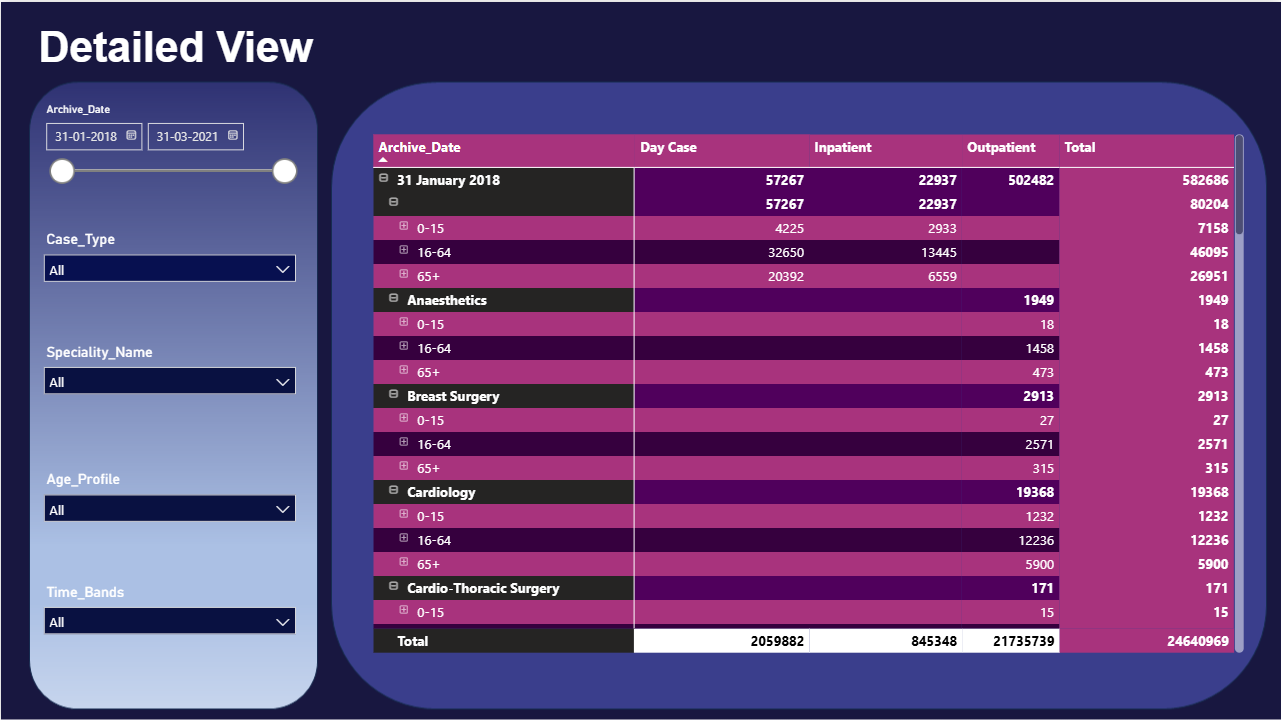

The page's visual inventory and layout, read from the dashboard file:
{"tool":"powerbi","page":{"name":"Detail","canvas":[1280,720],"ordinal":1},"visuals":[{"type":"slicer","fields":{"Values":["All_Data.Archive_Date"]},"box":[32,96,272,112],"z":0},{"type":"slicer","fields":{"Values":["All_Data.Case_Type"]},"box":[32,224,272,96],"z":1000},{"type":"slicer","fields":{"Values":["All_Data.Speciality_Name"]},"box":[32,336,272,80],"z":2000},{"type":"textbox","box":[32,16,400,64],"z":3000},{"type":"slicer","fields":{"Values":["All_Data.Age_Profile"]},"box":[32,464,272,96],"z":4000},{"type":"slicer","fields":{"Values":["All_Data.Time_Bands"]},"box":[32,576,272,80],"z":5000},{"type":"pivotTable","fields":{"Columns":["All_Data.Case_Type"],"Rows":["All_Data.Archive_Date","All_Data.Speciality_Name","All_Data.Age_Profile","All_Data.Time_Bands"],"Values":["Sum(All_Data.Total)"]},"box":[368,128,880,528],"z":6000}]}

Visuals, with their boxes in screenshot pixels (x1, y1, x2, y2), scaled from the page's 1280x720 canvas onto the 1281x720 screenshot:
slicer - All_Data.Archive_Date: [32,96,304,208]
slicer - All_Data.Case_Type: [32,224,304,320]
slicer - All_Data.Speciality_Name: [32,336,304,416]
textbox: [32,16,432,80]
slicer - All_Data.Age_Profile: [32,464,304,560]
slicer - All_Data.Time_Bands: [32,576,304,656]
pivotTable - All_Data.Case_Type x All_Data.Archive_Date: [368,128,1249,656]
